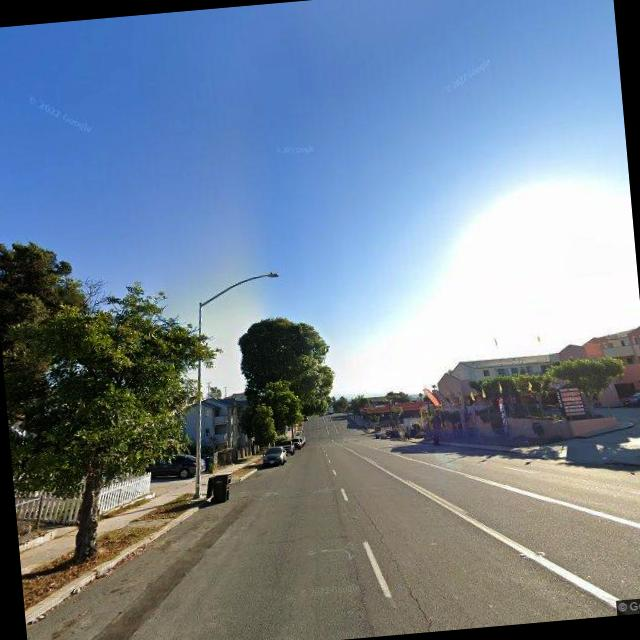pothole: (354, 492, 439, 634)
